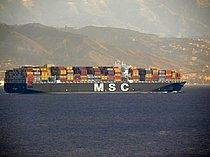Ship: (5, 63, 189, 97)
